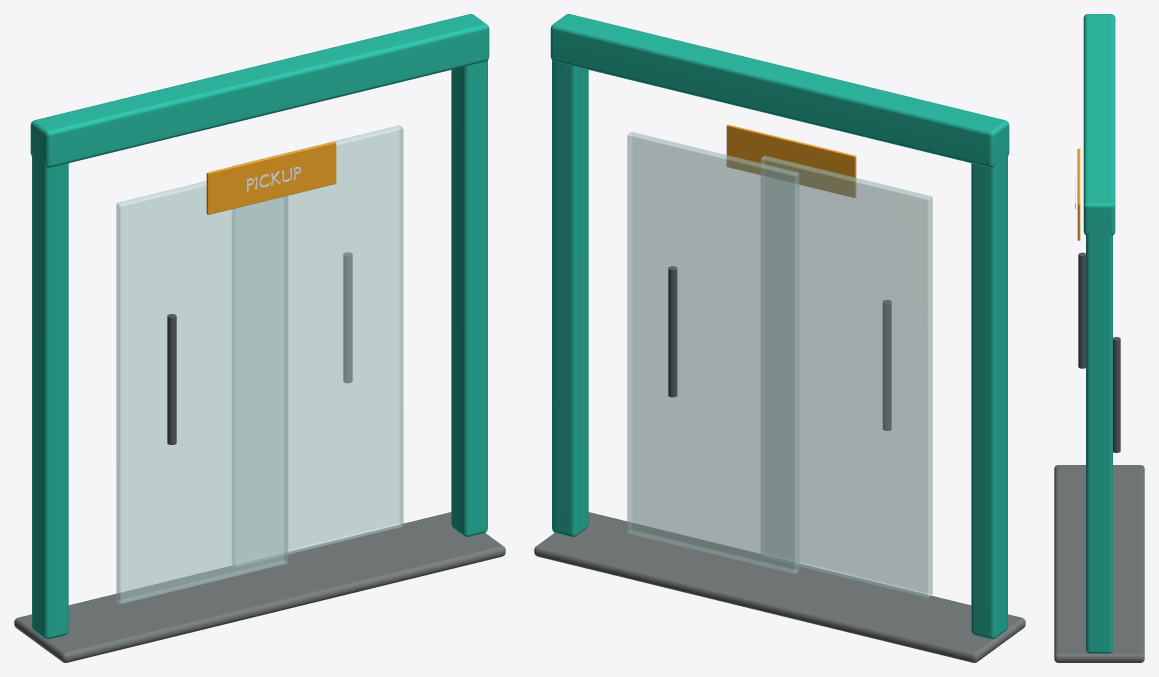
The model's file is door-main.glb.
3 renders of one model, left to right at view 1: azimuth 30°, elevation 25°; view 2: azimuth 150°, elevation 25°; view 3: azimuth 270°, elevation 25°, orthographic. The views are drawn at different scales.
Parts seen in each view (by area): view 1: left glass panel, right glass panel, threshold floor sensor mat, top transom frame, left green jamb, right green jamb, open sign plate, vertical pull handle, vertical pull handle.001; view 2: left glass panel, right glass panel, threshold floor sensor mat, top transom frame, left green jamb, right green jamb, open sign plate, vertical pull handle.001, vertical pull handle; view 3: threshold floor sensor mat, right green jamb, top transom frame, vertical pull handle, vertical pull handle.001, open sign plate.
Part boxes in pixels (bbox=[...]): left glass panel: bbox=[116, 181, 288, 604]; right glass panel: bbox=[232, 125, 403, 566]; threshold floor sensor mat: bbox=[14, 512, 505, 662]; top transom frame: bbox=[30, 14, 489, 167]; left green jamb: bbox=[32, 136, 68, 639]; right green jamb: bbox=[451, 60, 487, 536]; open sign plate: bbox=[206, 141, 336, 214]; vertical pull handle: bbox=[167, 314, 176, 444]; vertical pull handle.001: bbox=[343, 252, 352, 382]; left glass panel: bbox=[760, 155, 932, 597]; right glass panel: bbox=[627, 132, 799, 573]; threshold floor sensor mat: bbox=[534, 512, 1025, 662]; top transom frame: bbox=[550, 14, 1009, 167]; left green jamb: bbox=[971, 136, 1007, 639]; right green jamb: bbox=[552, 60, 588, 536]; open sign plate: bbox=[726, 124, 856, 197]; vertical pull handle.001: bbox=[668, 266, 677, 397]; vertical pull handle: bbox=[883, 300, 891, 430]; threshold floor sensor mat: bbox=[1054, 465, 1144, 662]; right green jamb: bbox=[1086, 216, 1112, 653]; top transom frame: bbox=[1083, 14, 1115, 235]; vertical pull handle: bbox=[1078, 252, 1085, 368]; vertical pull handle.001: bbox=[1113, 337, 1120, 452]; open sign plate: bbox=[1077, 148, 1080, 240].
Bounding box in the file's own units: 2 × 2.24 × 0.4.
